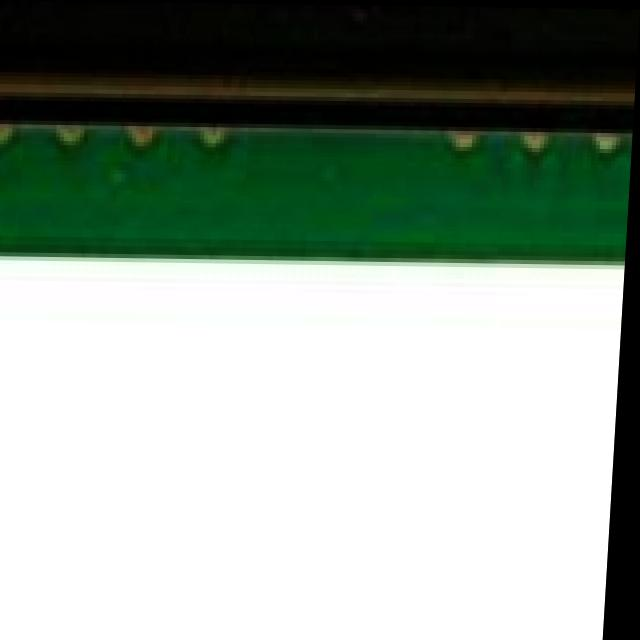display: (0, 0, 640, 111)
